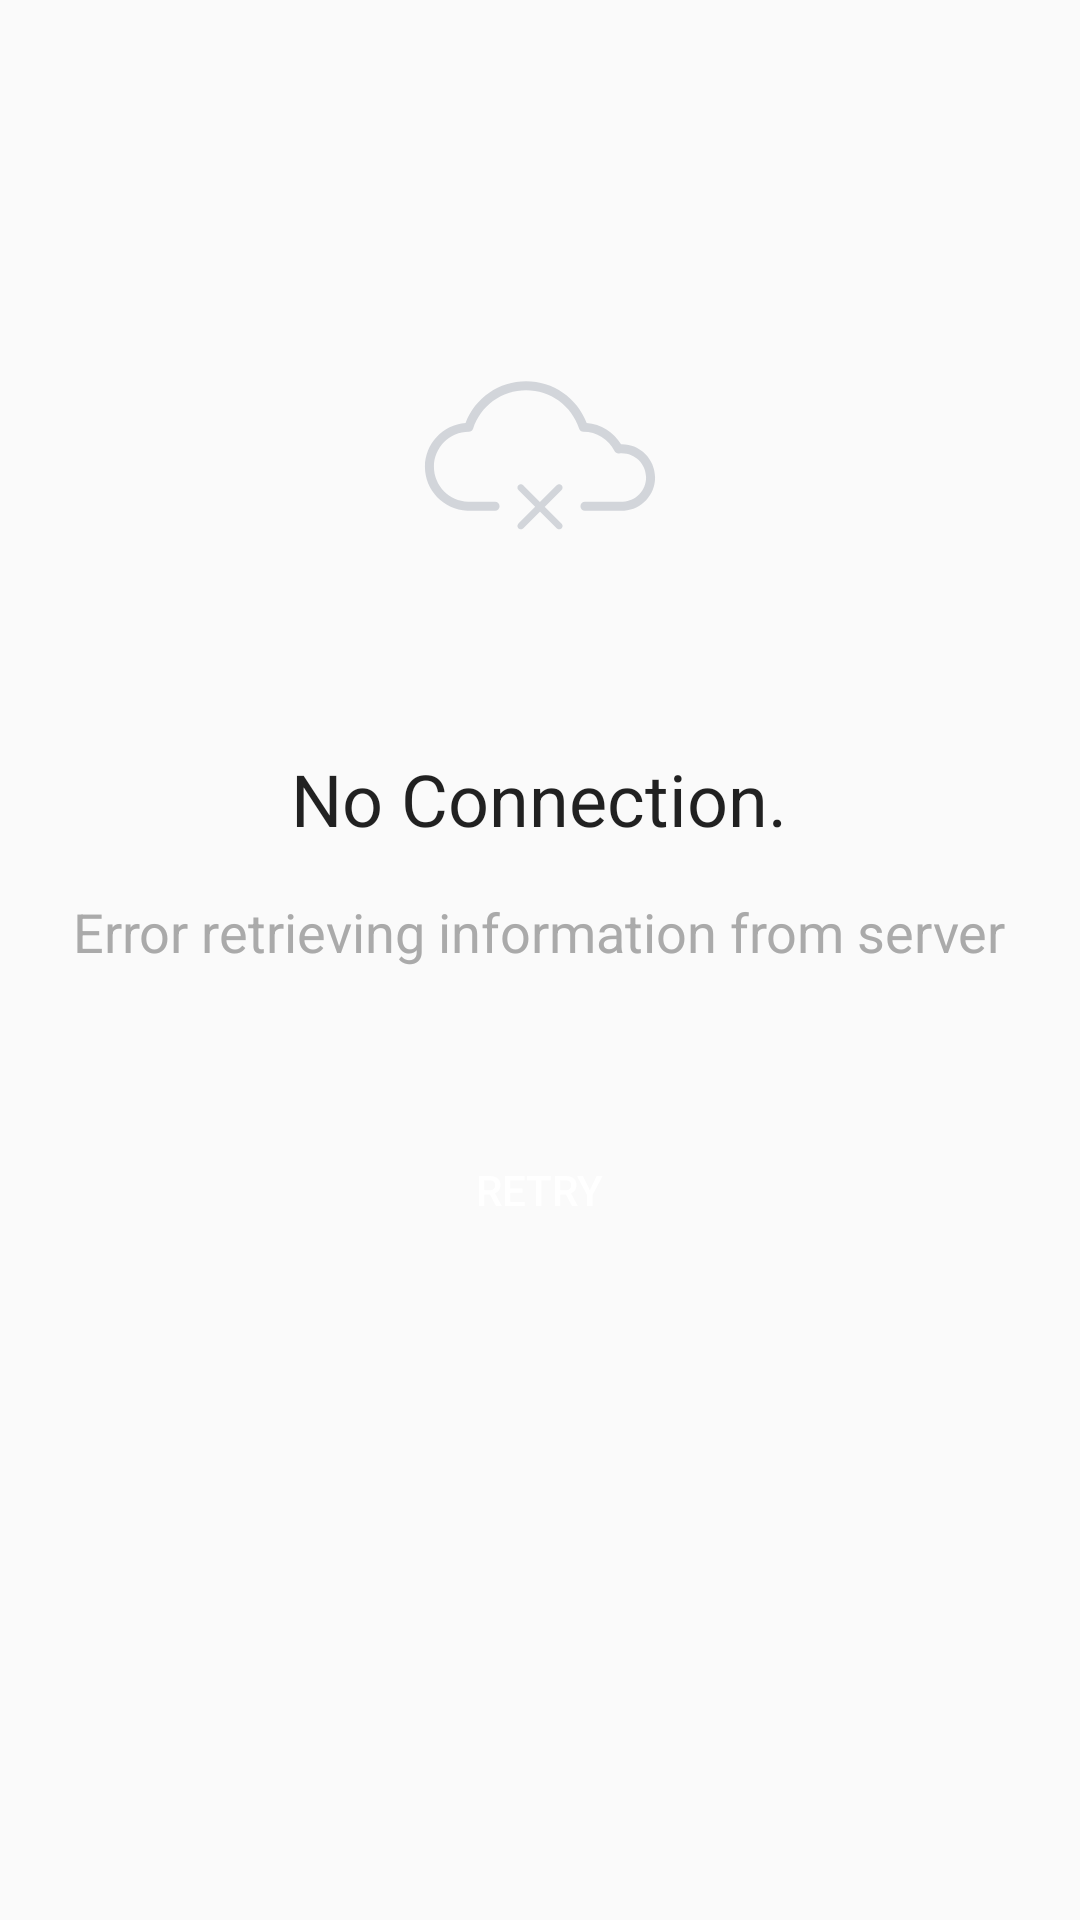

Named icons in this screenshot (1080×1920) and their bounding boxes, (x1, y1, x2, y2):
This is a placeholder for ImageViews: (425, 381, 655, 529)
